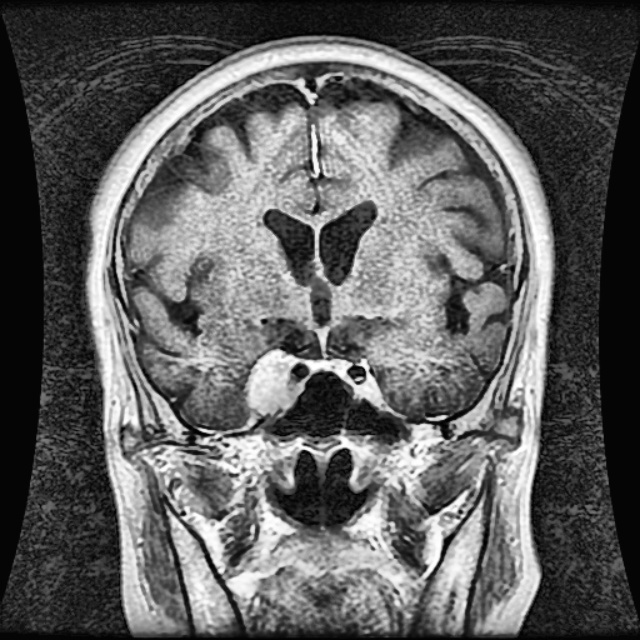Glioma: (248, 349, 295, 413)
